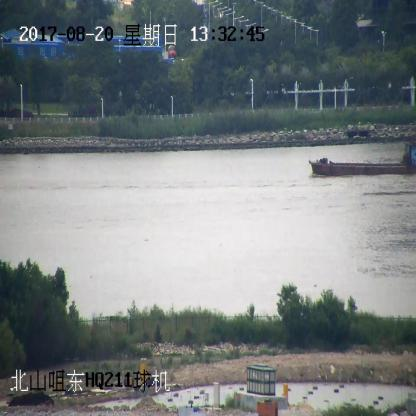Bulk Carrier: (311, 149, 415, 175)
